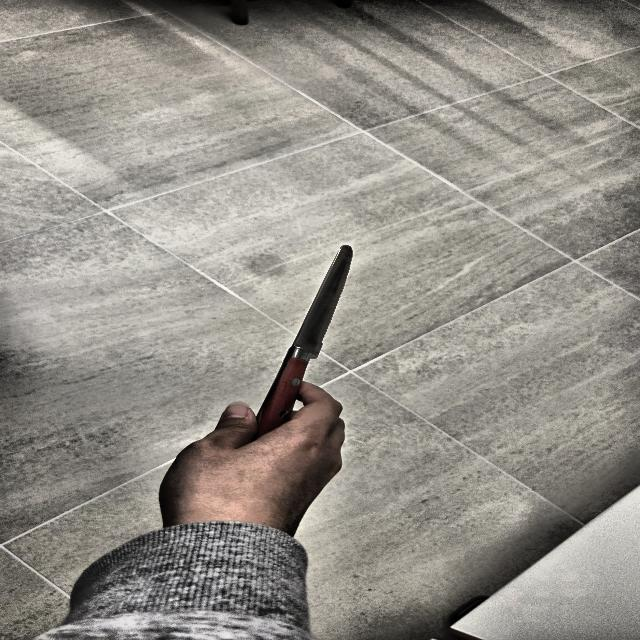knife: (244, 243, 360, 445)
